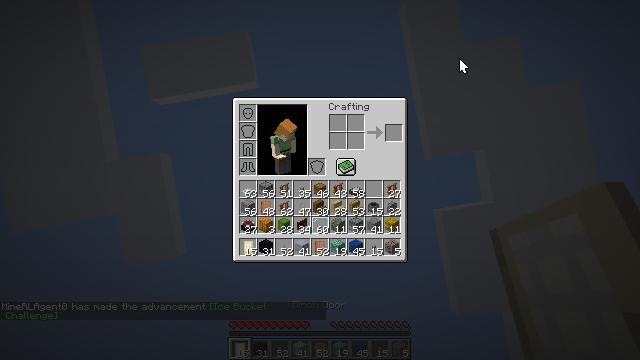cursor: (459, 58, 469, 74)
